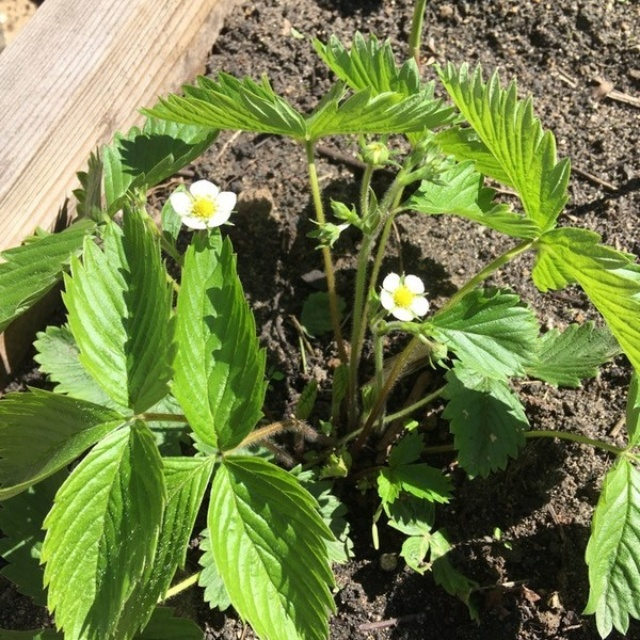obstacle: (165, 42, 591, 421), (20, 159, 332, 596)
